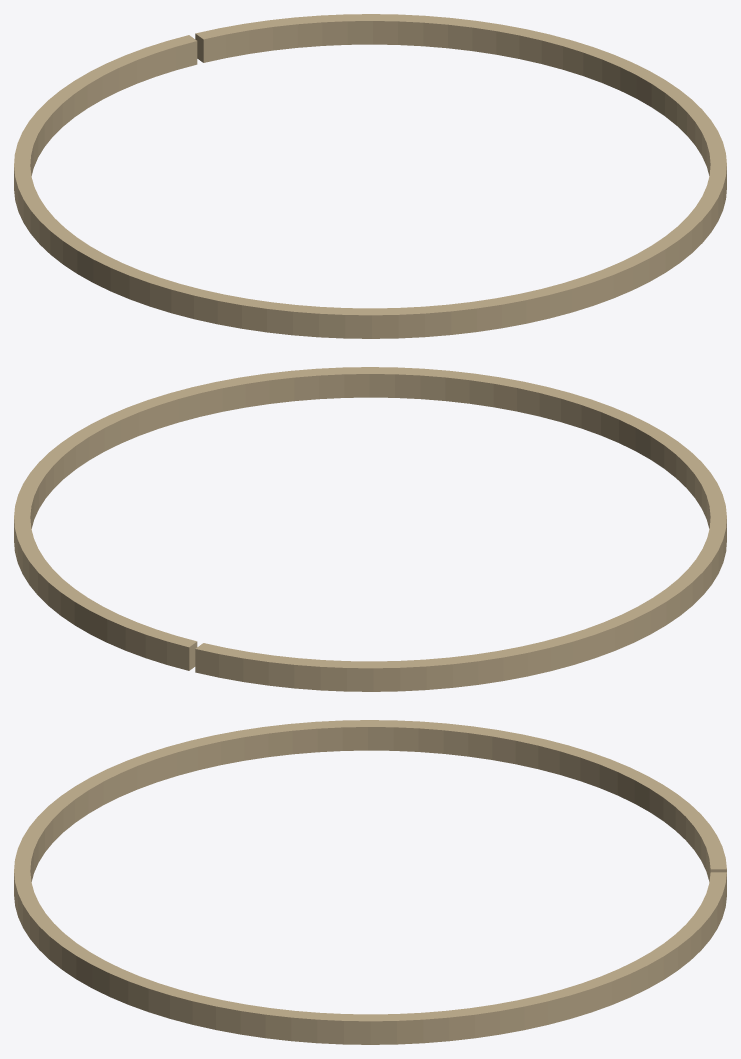
The model's file is oil-expander.glb.
3 renders of one model, top to bottom at view 1: azimuth 30°, elevation 25°; view 2: azimuth 150°, elevation 25°; view 3: azimuth 270°, elevation 25°, orthographic.
Parts seen in each view (by area): view 1: oil-expander; view 2: oil-expander; view 3: oil-expander.
Boxes of the visible parts, x1=… form: oil-expander: x1=14, y1=14, x2=726, y2=338; oil-expander: x1=14, y1=367, x2=726, y2=691; oil-expander: x1=14, y1=720, x2=726, y2=1044.
Bounding box in the file's own units: 0.1002 × 0.00366 × 0.1002.
